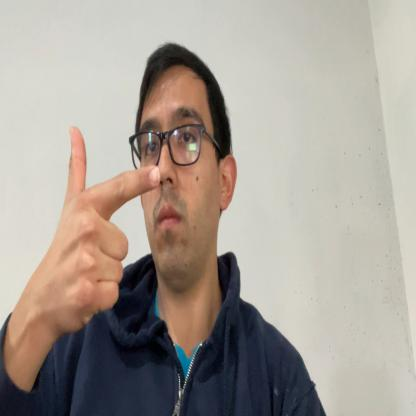G: (56, 125, 160, 332)
